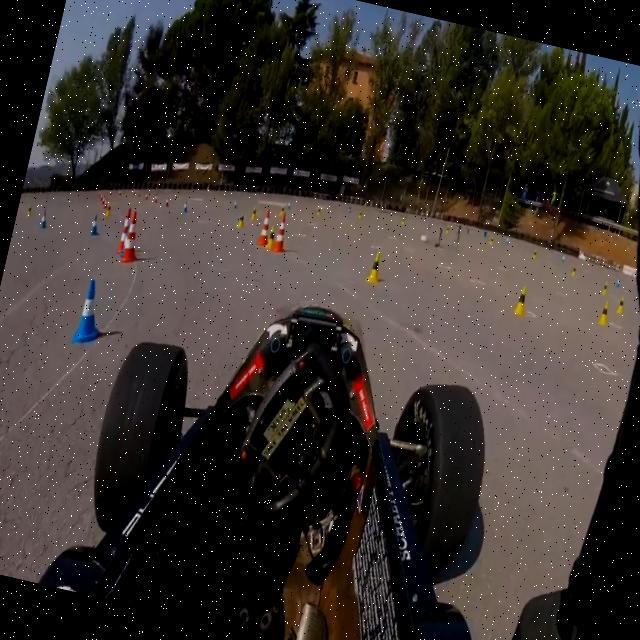blue_cone: (66, 274, 109, 345), (34, 205, 52, 231), (88, 208, 104, 235)
orange_cone: (120, 210, 145, 264), (115, 208, 136, 258), (254, 204, 276, 247), (271, 211, 291, 254)
yellow_cone: (509, 282, 534, 318), (364, 250, 386, 288), (596, 296, 612, 326), (264, 226, 279, 252), (615, 293, 628, 317)
